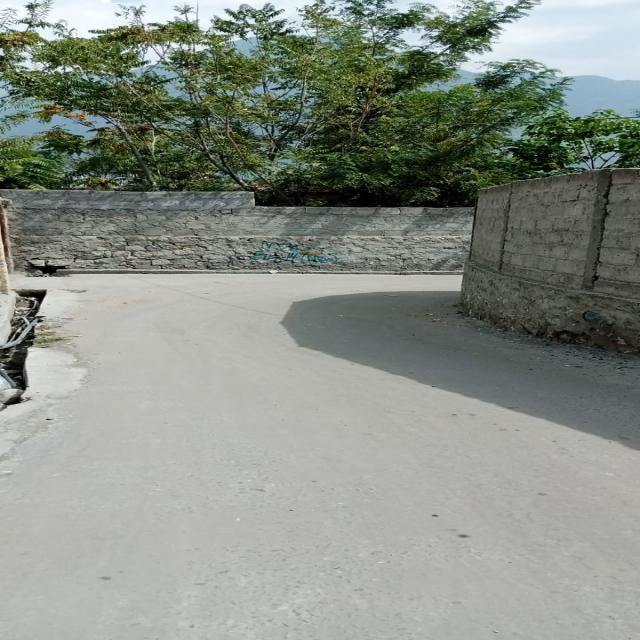Right-Turn: (172, 268, 453, 392)
